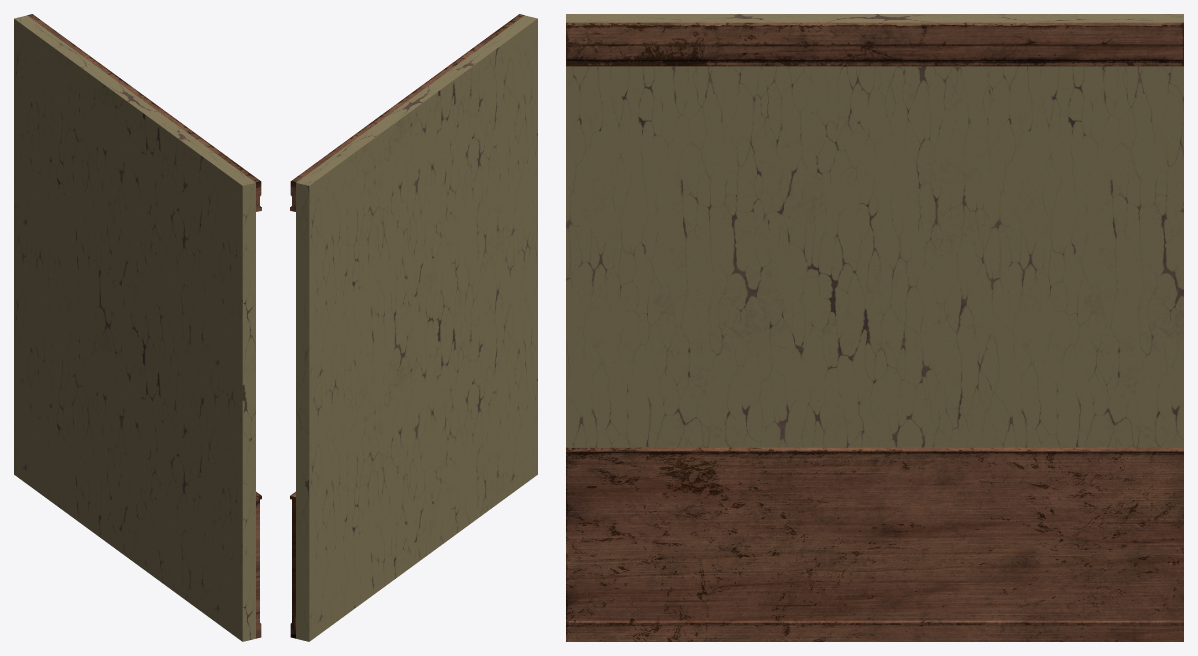
File: Wall_3m_A_Fixed.fbx
3 renders of one model, left to right at view 1: azimuth 30°, elevation 25°; view 2: azimuth 150°, elevation 25°; view 3: azimuth 270°, elevation 25°, orthographic. The views are drawn at different scales.
Parts seen in each view (by area): view 1: Wall_3m_A; view 2: Wall_3m_A; view 3: Wall_3m_A.
Boxes of the visible parts, bbox=[...] form: Wall_3m_A: bbox=[14, 14, 261, 641]; Wall_3m_A: bbox=[290, 14, 537, 641]; Wall_3m_A: bbox=[566, 14, 1183, 641].
Size of the model in its own units: 0.1458 by 3 by 3.3.
